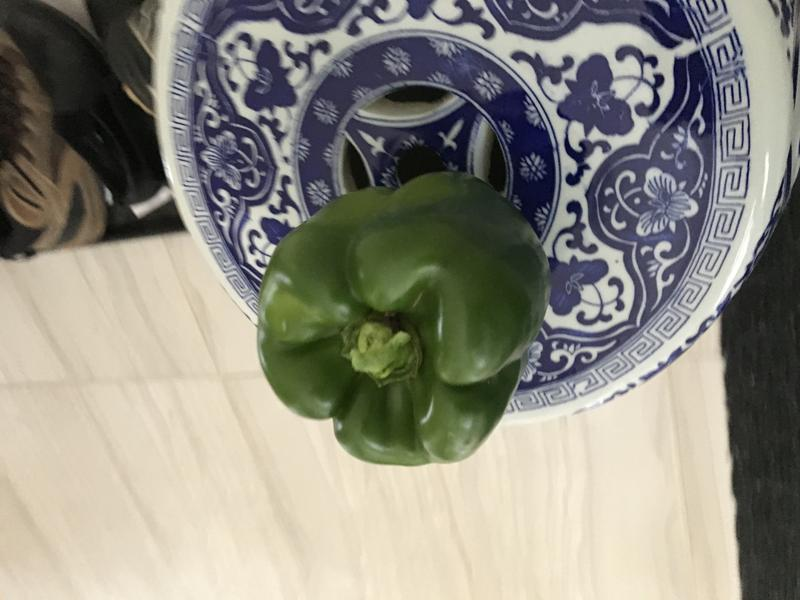green_pepper: (235, 160, 568, 490)
